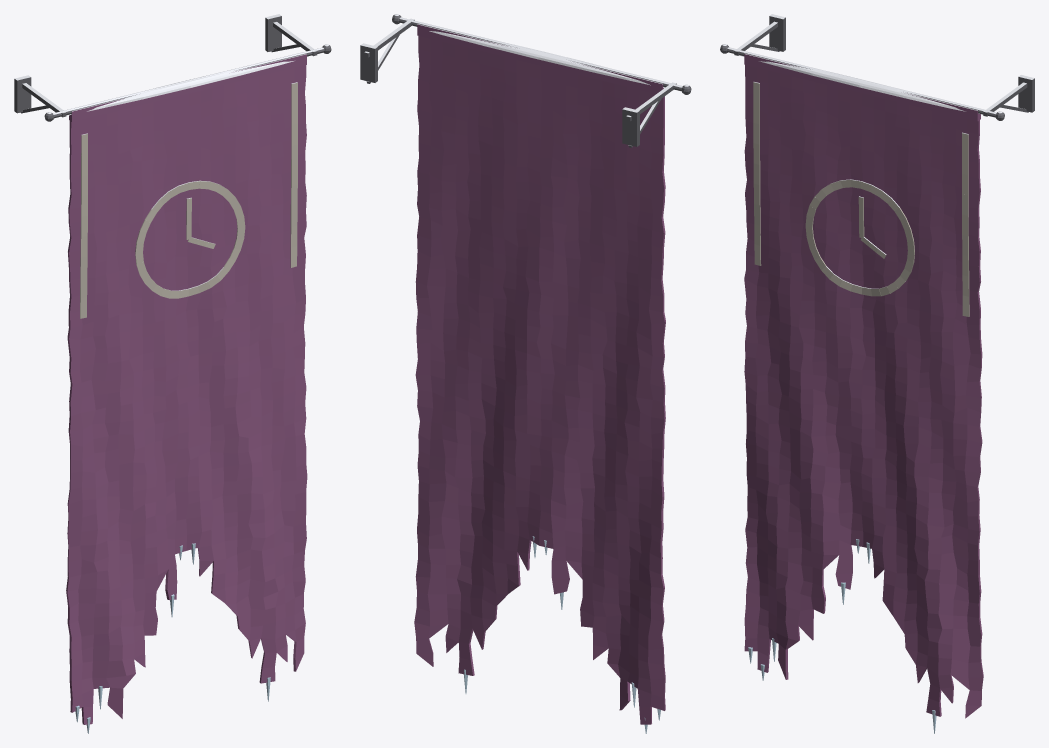
Rendered from PR_Estandarte_Colunata_A.fbx.
3 renders of one model, left to right at view 1: azimuth 30°, elevation 25°; view 2: azimuth 150°, elevation 25°; view 3: azimuth 330°, elevation 25°, orthographic. The views are drawn at different scales.
Parts seen in each view (by area): view 1: PR_Estandarte_Colunata_A; view 2: PR_Estandarte_Colunata_A; view 3: PR_Estandarte_Colunata_A.
Part boxes in pixels (<box>): PR_Estandarte_Colunata_A: <box>14,14,331,733</box>; PR_Estandarte_Colunata_A: <box>360,14,691,733</box>; PR_Estandarte_Colunata_A: <box>720,14,1034,733</box>.
Bounding box in the file's own units: 3.65 × 7.81 × 1.09.
